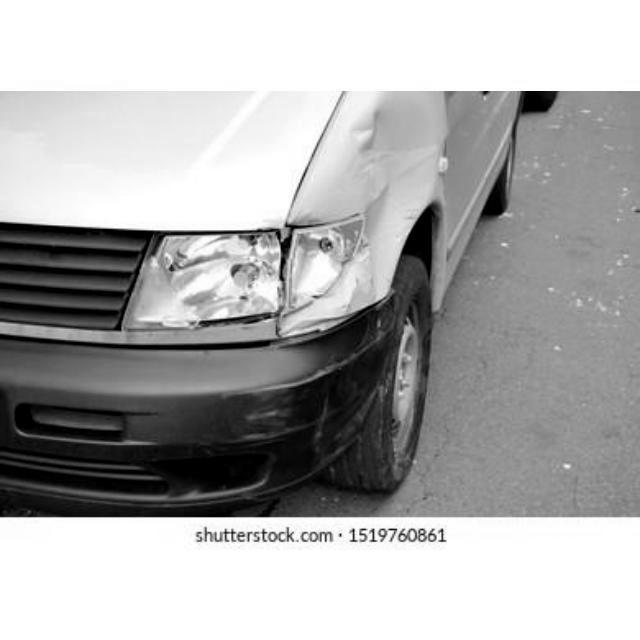fender-dent: (296, 90, 448, 336)
front-bumper-dent: (7, 335, 386, 459)
